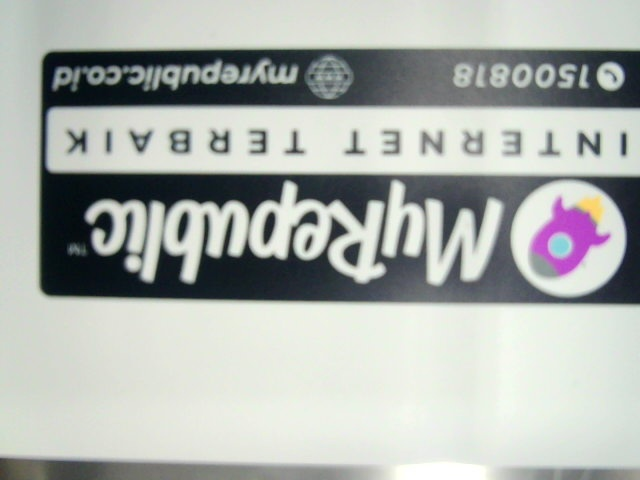BD_MyRepublic: (35, 43, 639, 305)
